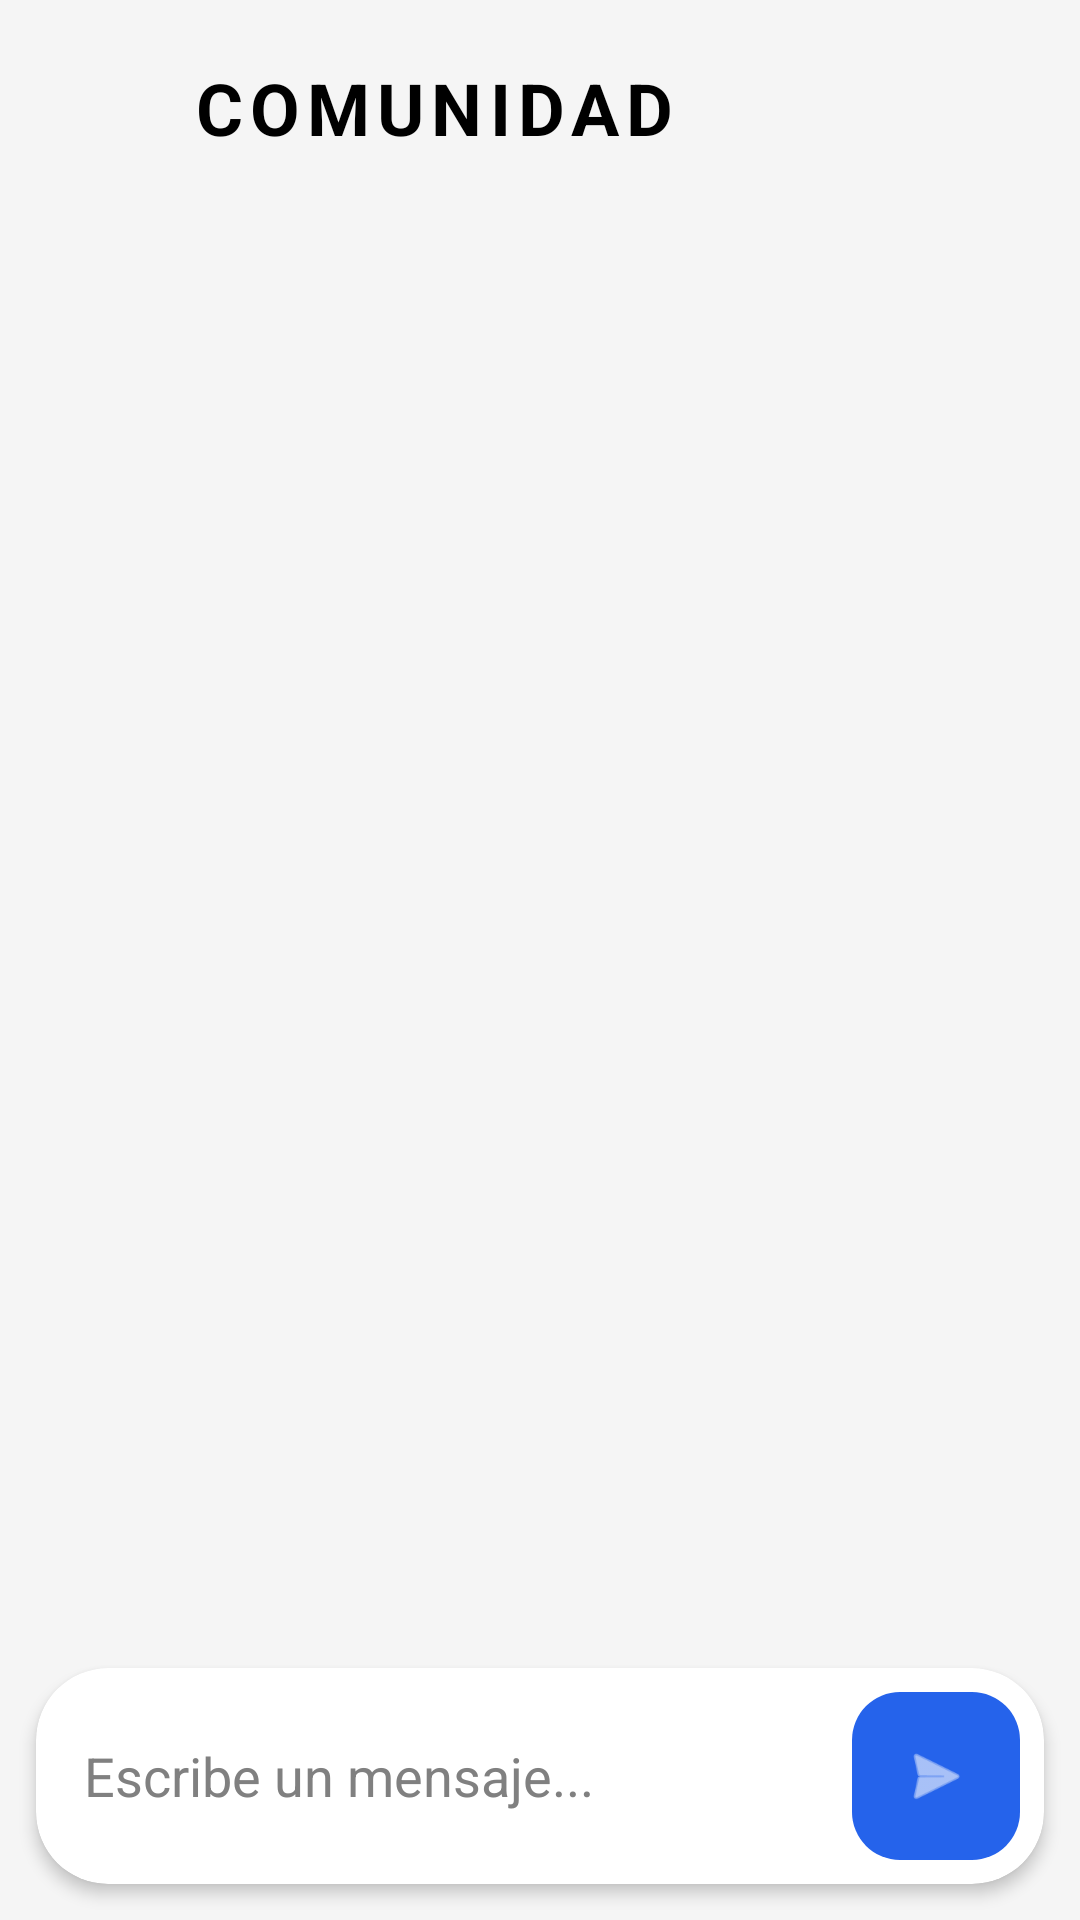

Icons on this 1080px×1920px Android screen, each with its box as (x1, y1, x2, y2):
send: (852, 1692, 1020, 1860)
